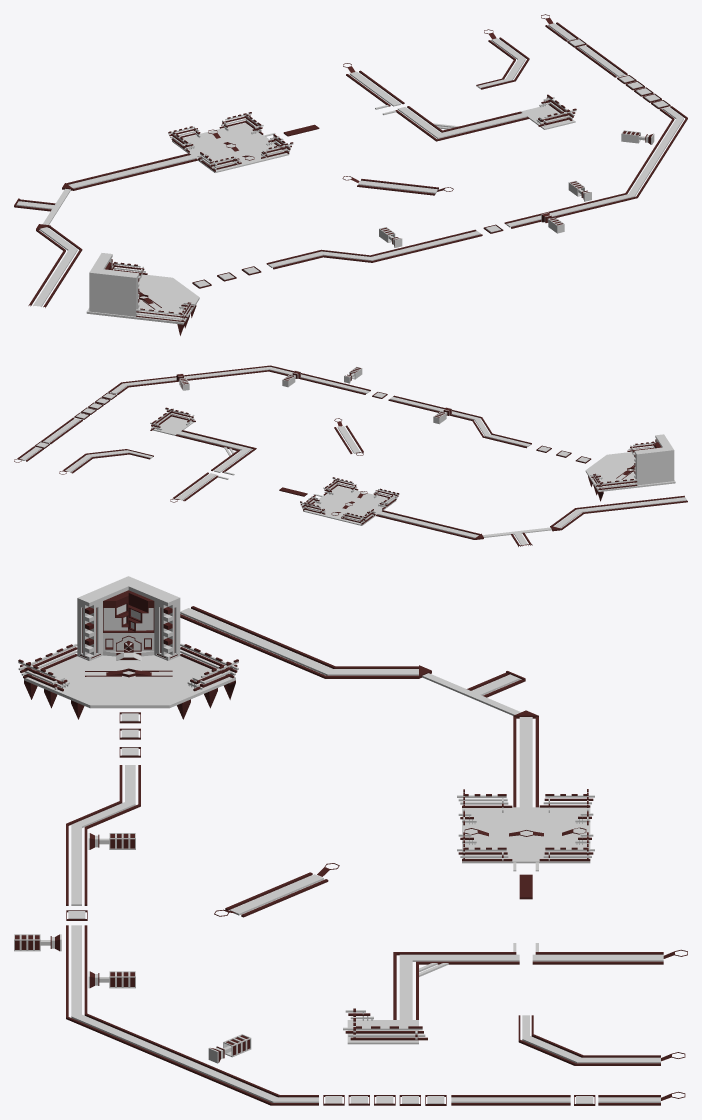
File: Карта.fbx
3 renders of one model, top to bottom at view 1: azimuth 30°, elevation 25°; view 2: azimuth 150°, elevation 25°; view 3: azimuth 270°, elevation 25°, orthographic. The views are drawn at different scales.
Visible parts, largest first — view 1: Group26, Group29, Group10, Group21, Group7, Group27, Group1, Group18, Group20, Group25, Group9, Group28 (+3 smaller); view 2: Group26, Group21, Group29, Group10, Group7, Group18, Group1, Group27, Group20, Group25, Group9, Group28 (+3 smaller); view 3: Group29, Group7, Group26, Group21, Group10, Group18, Group1, Group27, Group25, Group9, Group20, Group28 (+4 smaller).
Boxes of the visible parts, x1,y1,x2,y2 form: Group26: [172, 122, 289, 172]; Group29: [89, 253, 161, 316]; Group10: [343, 63, 529, 141]; Group21: [504, 106, 687, 228]; Group7: [86, 274, 199, 335]; Group27: [266, 229, 482, 269]; Group1: [168, 112, 293, 171]; Group18: [28, 224, 82, 307]; Group20: [62, 153, 214, 190]; Group25: [521, 94, 576, 129]; Group9: [476, 29, 529, 89]; Group28: [545, 22, 627, 77]; Group26: [303, 486, 387, 525]; Group21: [108, 365, 370, 394]; Group29: [616, 434, 674, 485]; Group10: [170, 430, 256, 502]; Group7: [585, 452, 675, 501]; Group18: [550, 495, 687, 531]; Group1: [300, 477, 399, 524]; Group27: [388, 395, 531, 448]; Group20: [376, 500, 483, 539]; Group25: [150, 407, 195, 435]; Group9: [59, 449, 153, 474]; Group28: [17, 417, 82, 461]; Group29: [77, 576, 180, 677]; Group7: [24, 655, 235, 719]; Group26: [462, 807, 590, 871]; Group21: [66, 925, 318, 1105]; Group10: [393, 943, 687, 1019]; Group18: [180, 606, 431, 678]; Group1: [457, 789, 594, 861]; Group27: [66, 765, 140, 905]; Group25: [343, 1008, 427, 1044]; Group9: [518, 1015, 685, 1065]; Group20: [513, 710, 538, 807]; Group28: [451, 1095, 660, 1105].
Size of the model in its own units: 1404 by 107 by 800.
